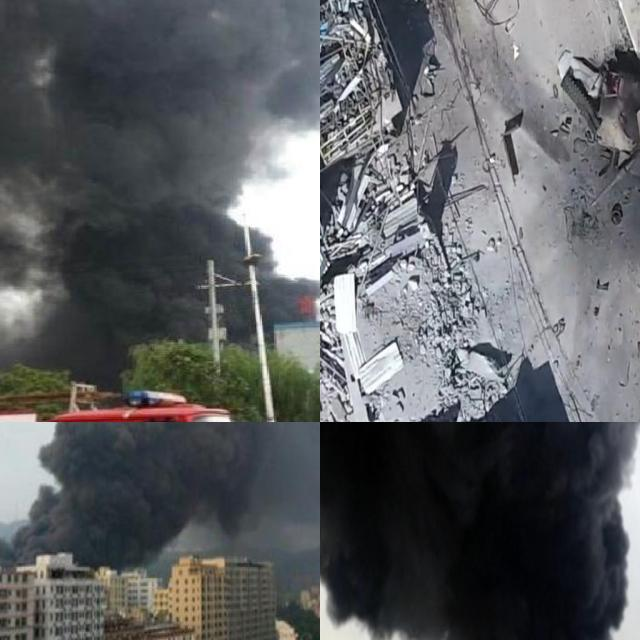smoke: (0, 0, 320, 386), (320, 422, 640, 640), (0, 422, 320, 569)
